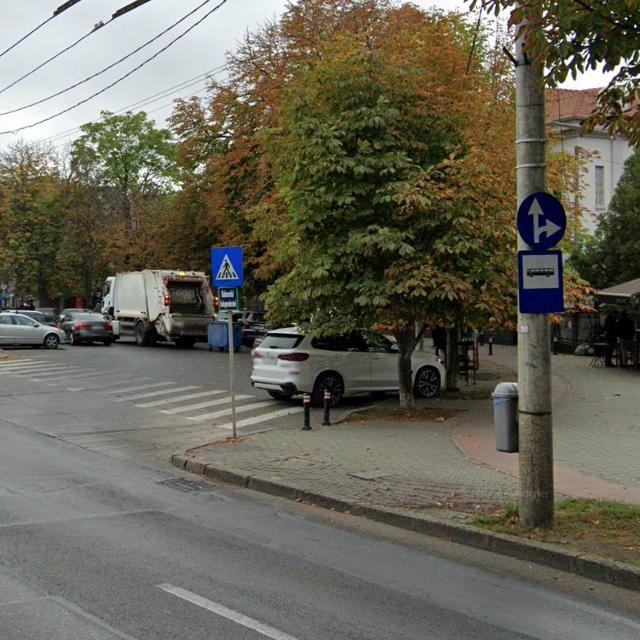info_crosswalk: (209, 247, 244, 289)
